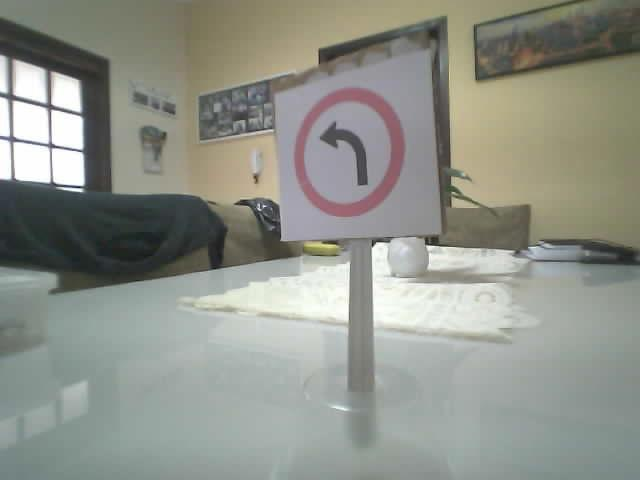R-25a_esquerda: (292, 86, 406, 217)
